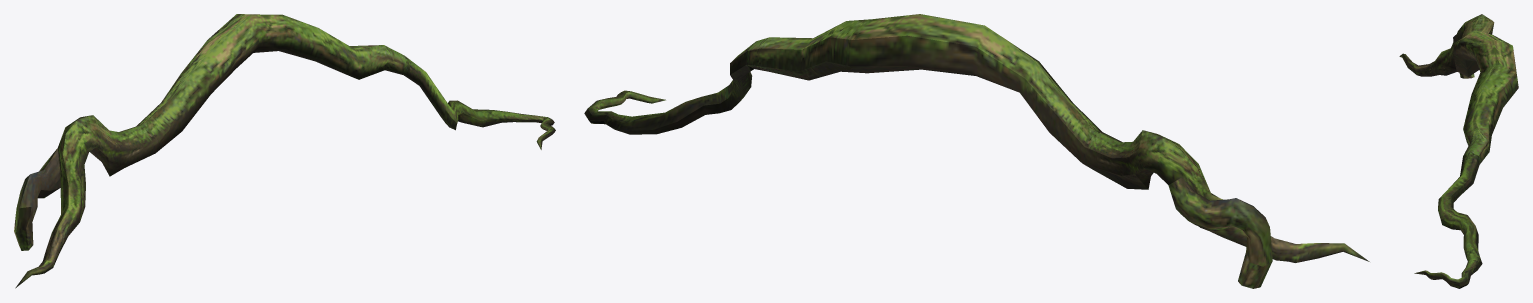
File: 3014_Item_shuteng_02.FBX
3 views of the same model, side by side, from view 1: azimuth 30°, elevation 25°; view 2: azimuth 150°, elevation 25°; view 3: azimuth 270°, elevation 25° (orthographic). The views are drawn at different scales.
Parts seen in each view (by area): view 1: 3014_Item_shuteng_02; view 2: 3014_Item_shuteng_02; view 3: 3014_Item_shuteng_02.
Part boxes in pixels (x1,y1,x2,y2): 3014_Item_shuteng_02: (14, 14, 555, 288); 3014_Item_shuteng_02: (584, 14, 1369, 288); 3014_Item_shuteng_02: (1399, 14, 1518, 288).
Size of the model in its own units: 2408 by 659 by 522.
